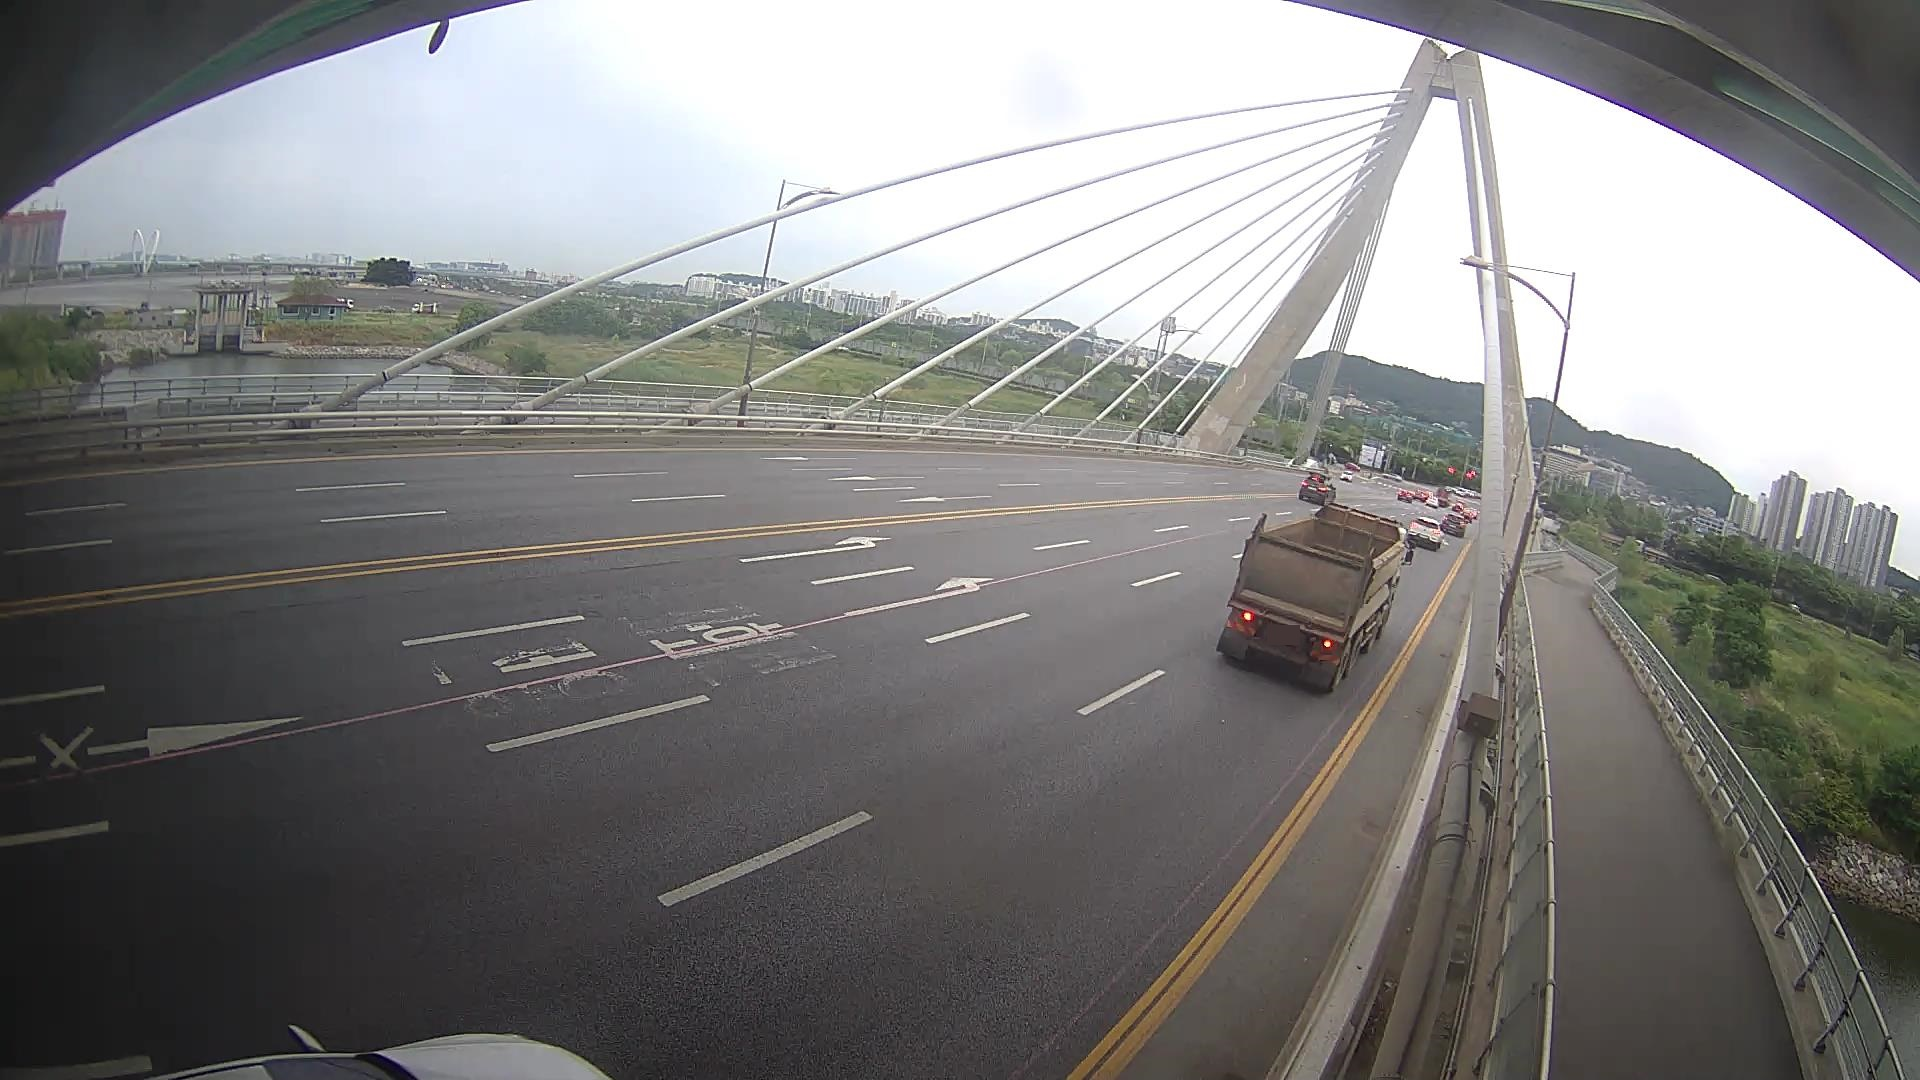정상차량: (1216, 502, 1417, 695)
